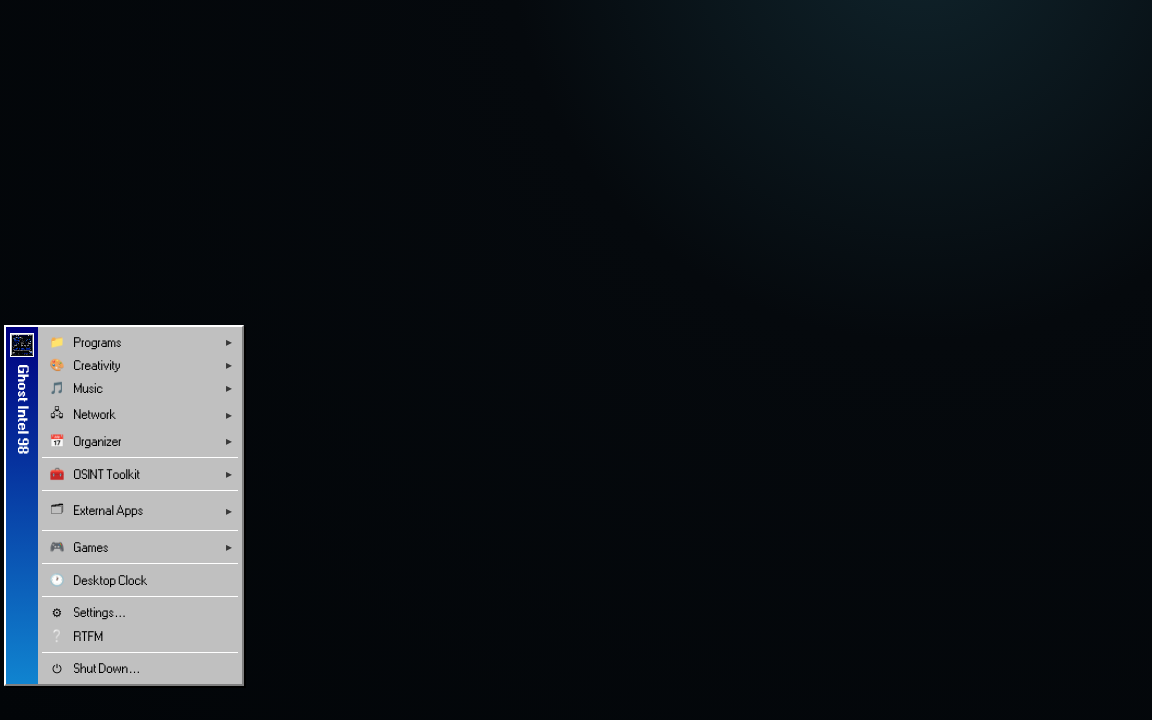
Access menu — OSINT Toolkit flyout (T2) › anchors the flyout to grow UPWARD (bottom-anchored) so its lower groups stay on-screen
This screenshot has width=1152, height=720.
Click the menu item "🧰 OSINT Toolkit ▸" at (140, 474), box [42,463,238,485]
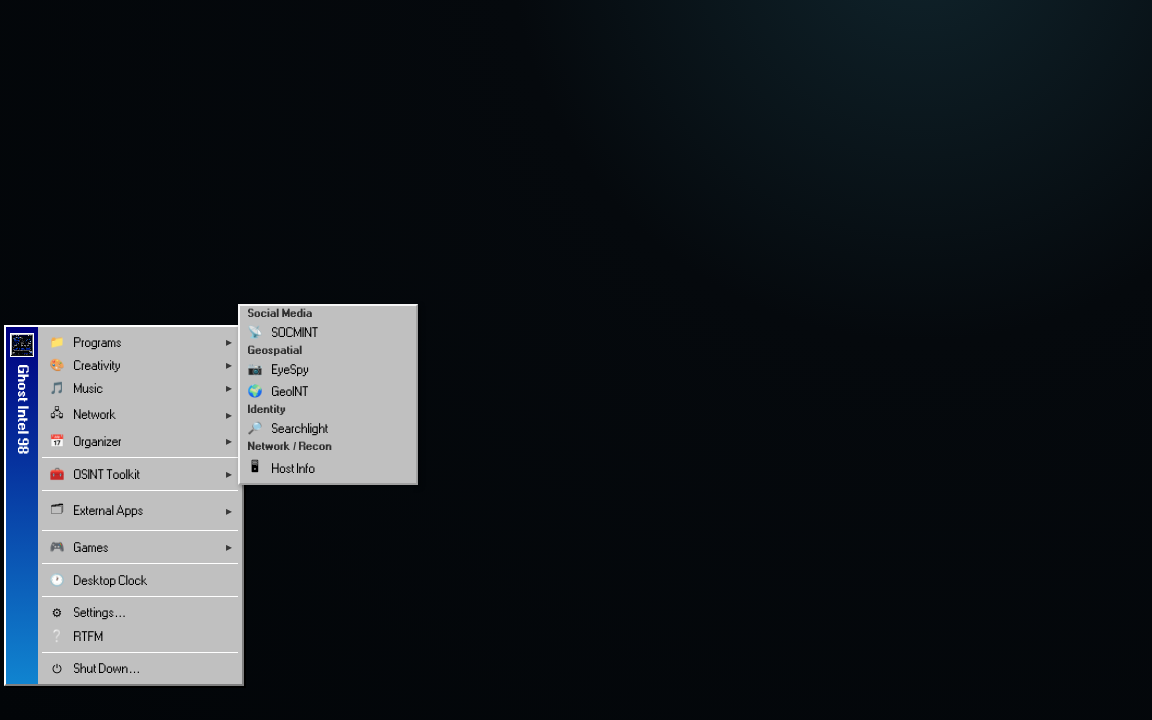
Check: the menu is shown, box [238,304,418,485]
